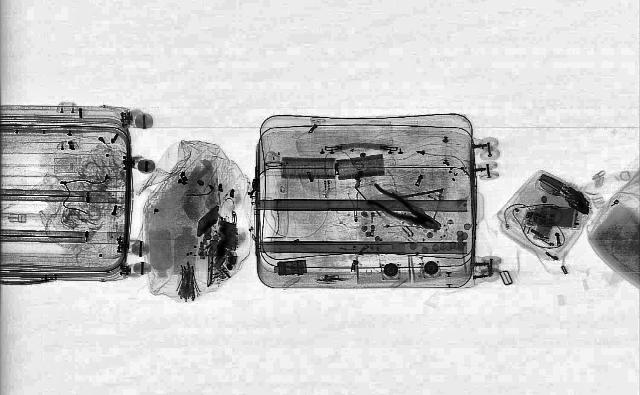Pliers: (354, 182, 452, 236)
